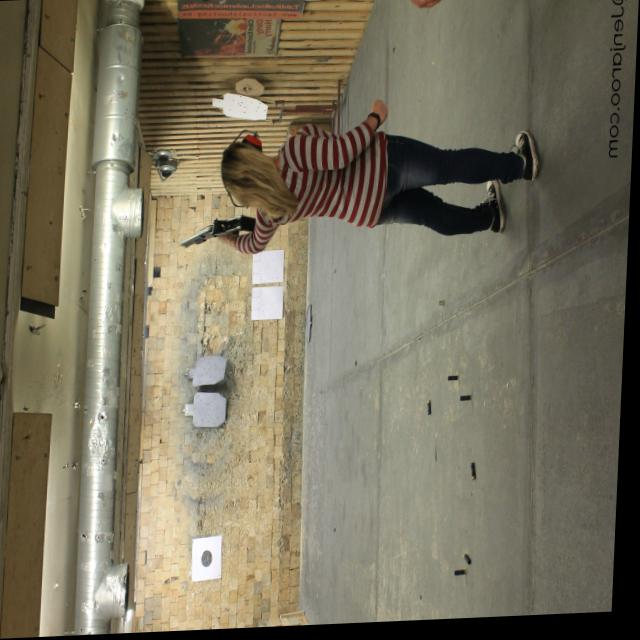handgun: (181, 216, 257, 254)
